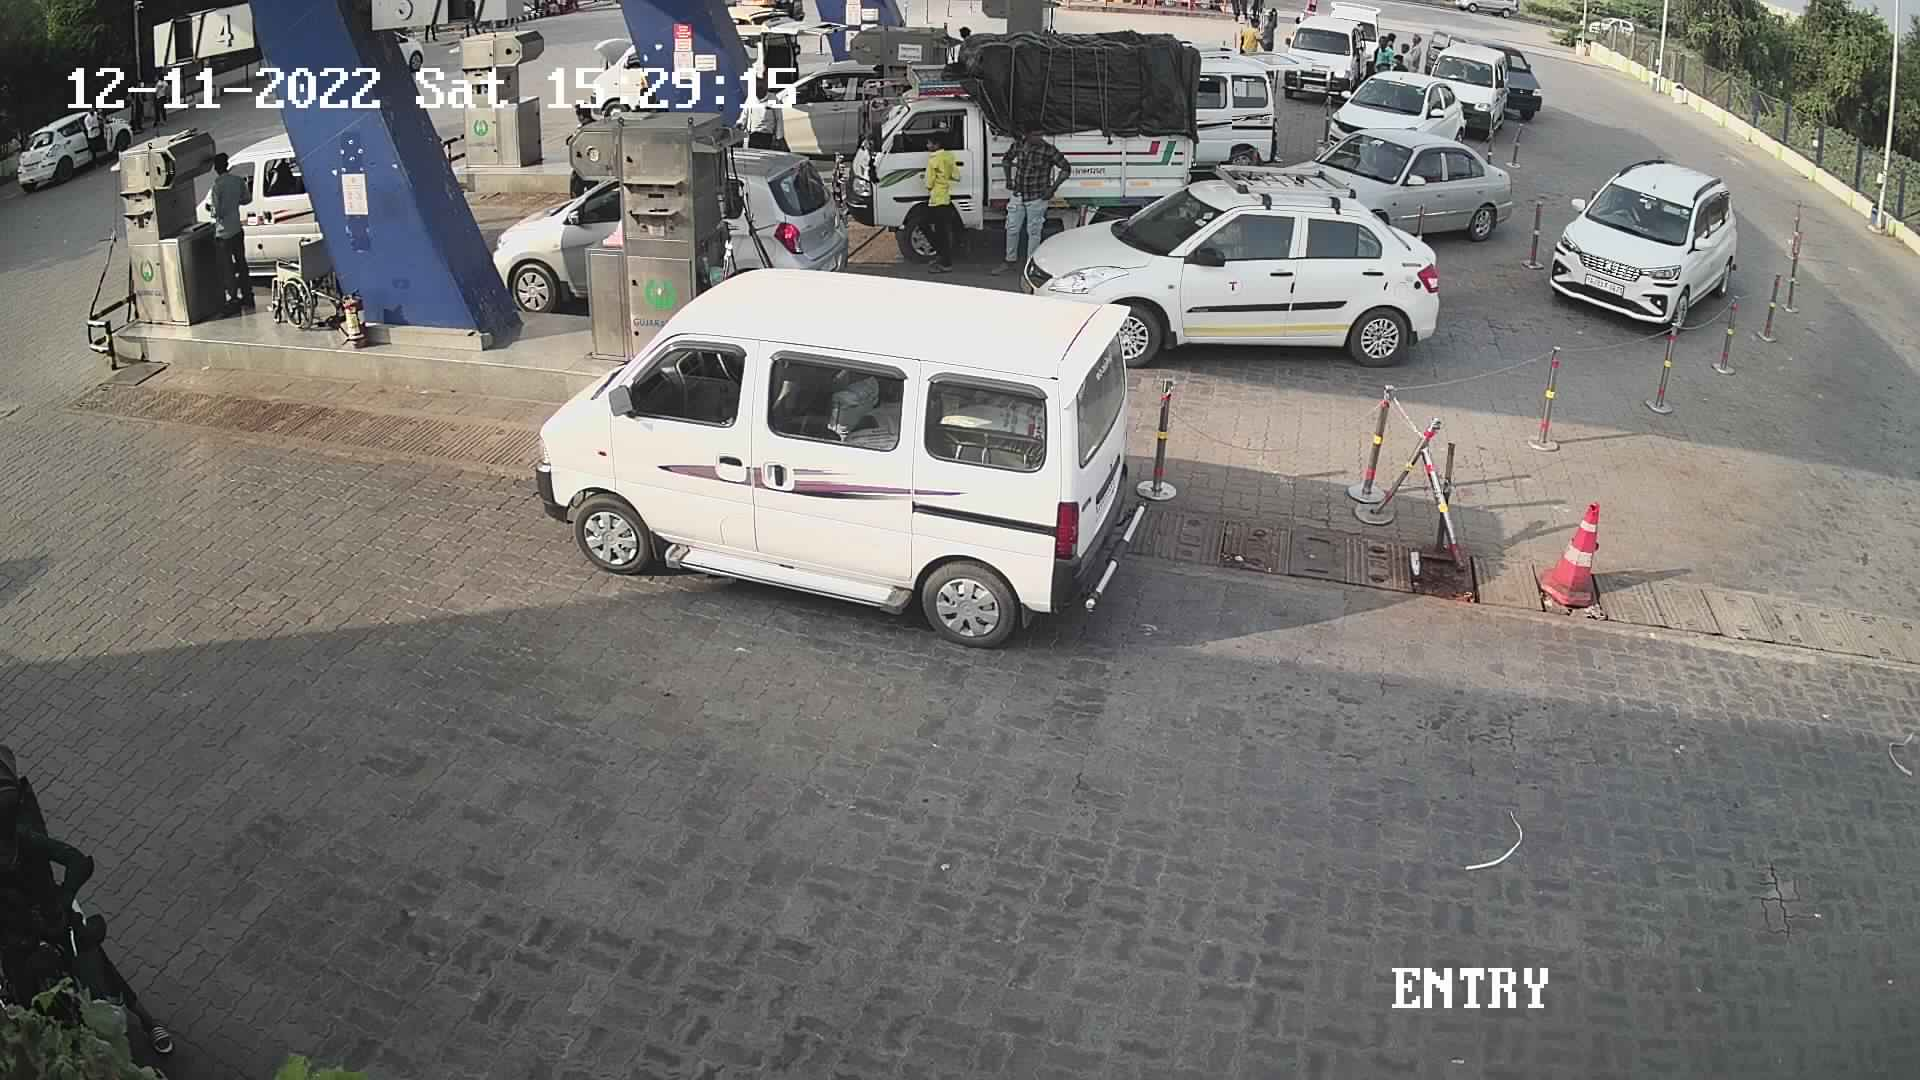Bike: (1, 721, 212, 1076)
Car: (524, 255, 1155, 657), (815, 24, 1207, 274), (1039, 177, 1441, 377), (1543, 145, 1741, 339), (1304, 107, 1516, 257), (195, 113, 372, 290), (700, 133, 860, 295), (1151, 36, 1288, 185), (1313, 61, 1478, 171), (744, 55, 882, 173), (11, 90, 145, 191), (1424, 33, 1518, 146), (564, 33, 662, 137), (1278, 7, 1369, 104), (1478, 33, 1552, 131), (1317, 0, 1390, 76)
